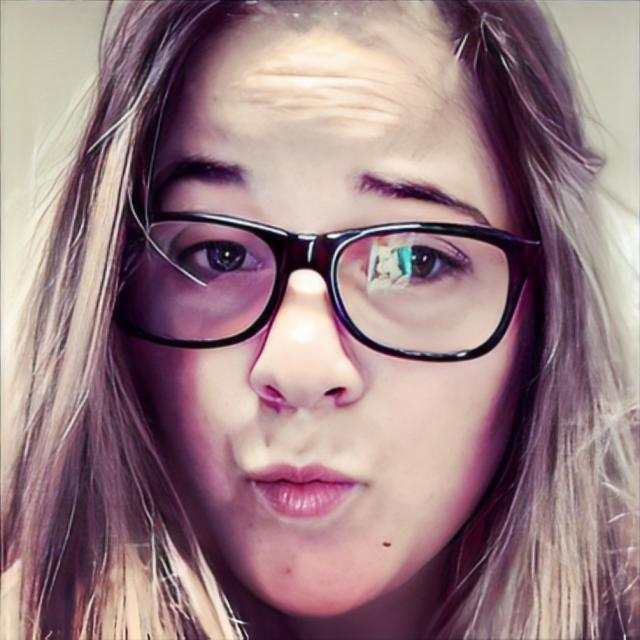fear: (132, 3, 510, 501)
